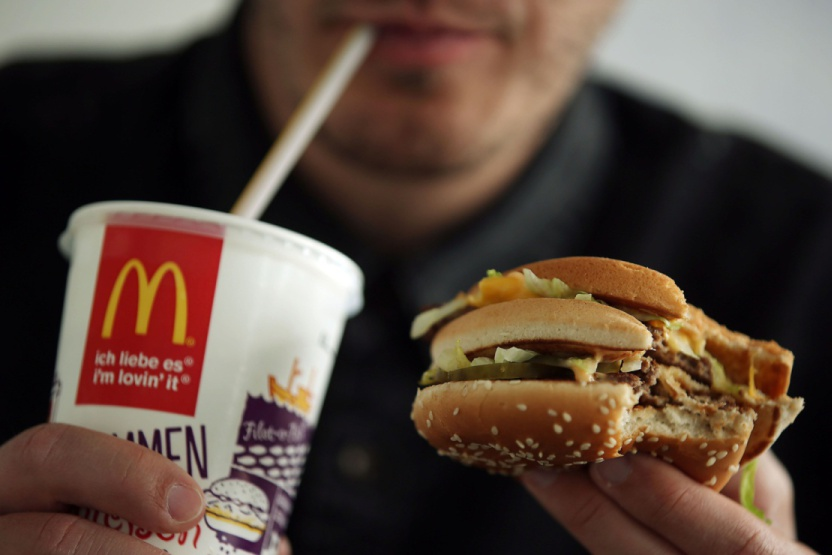mcdonalds: (92, 249, 203, 351)
